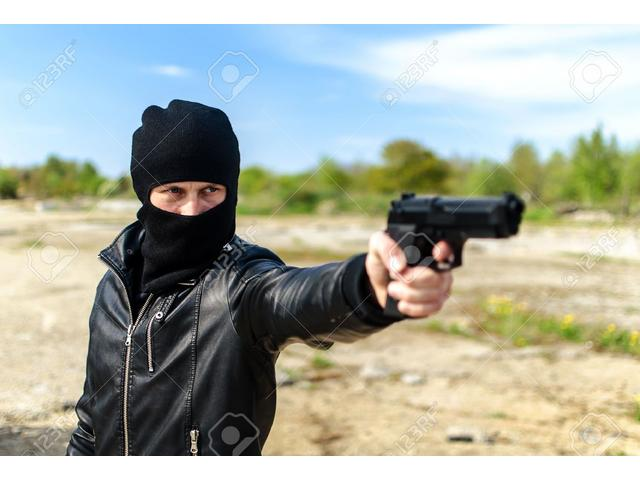pistol: (383, 183, 527, 323)
